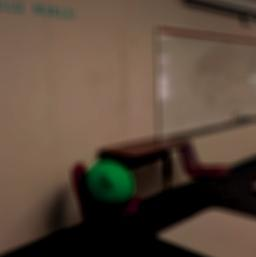algae: (80, 159, 137, 216)
